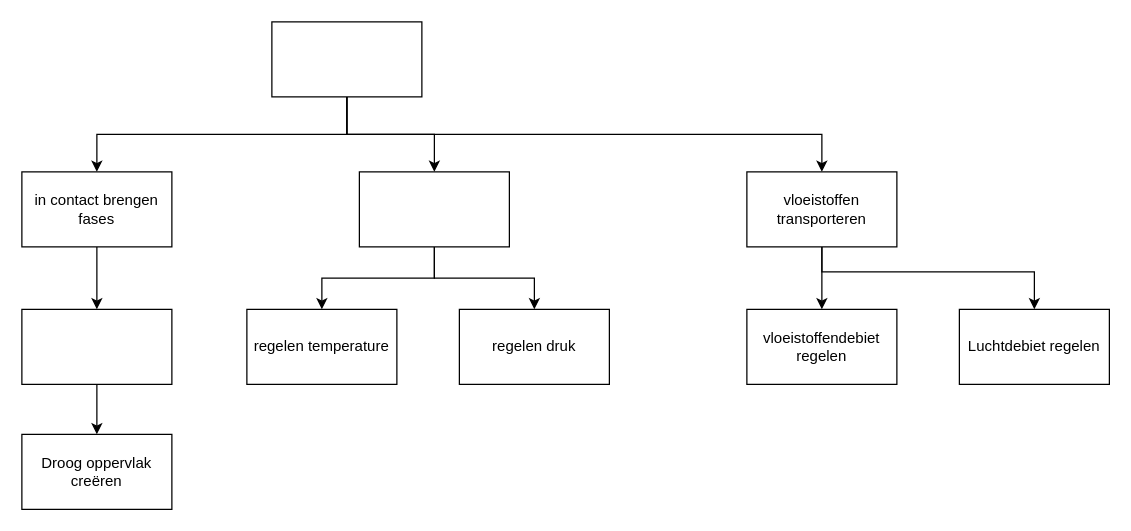
The diagram is 1131 pixels wide and 531 high, and some of its shapes have lost their labels. The box of each missing label's shape, as (x1, y1, x2, y2) in pixels:
concentratieverschil ten opzichte van het balans creëren: (358, 171, 509, 247)
grote contactoppervlak fases regelen: (21, 308, 172, 384)
Onvochtiger: (271, 21, 422, 97)
